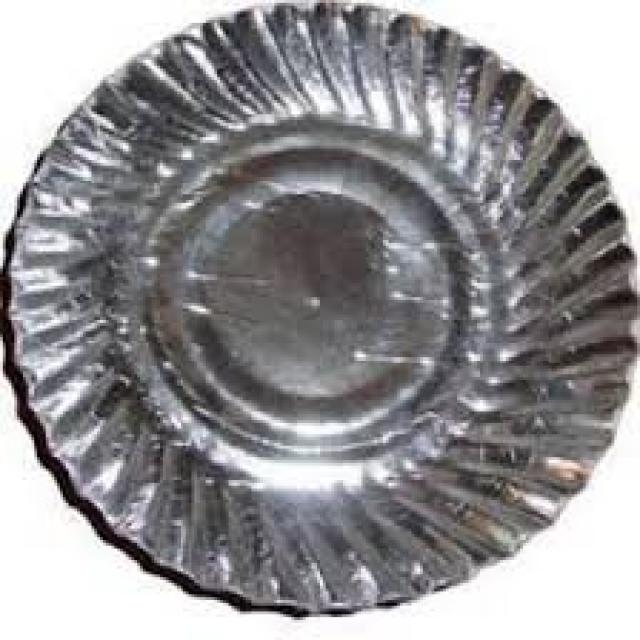Paper -Biodegradable-: (0, 6, 639, 604)
